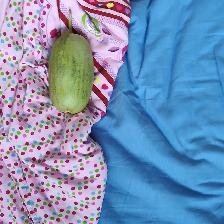gua: (49, 25, 92, 116)
